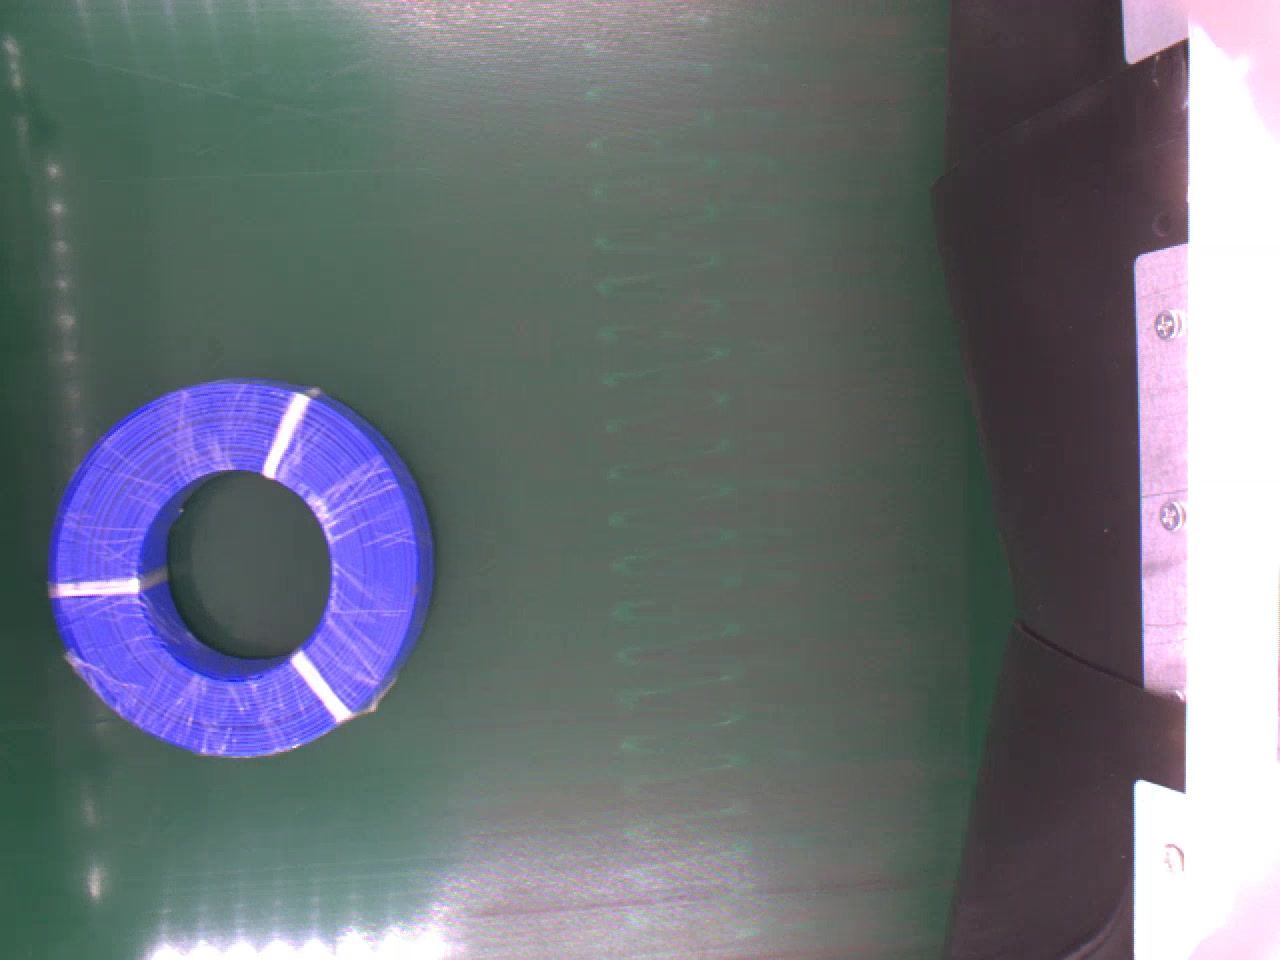blue: (43, 377, 439, 762)
